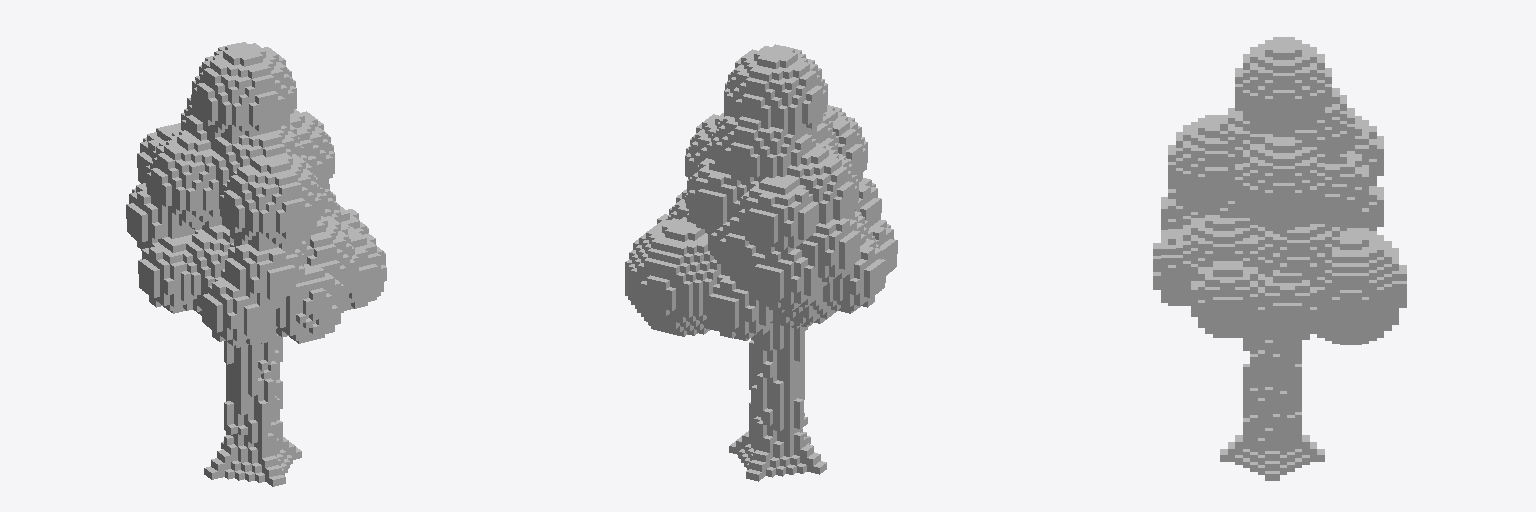
Rendered from tree1.obj.
The picture shows the model from 3 angles: view 1: azimuth 30°, elevation 25°; view 2: azimuth 150°, elevation 25°; view 3: azimuth 270°, elevation 25°; orthographic projection.
Parts seen in each view (by area): view 1: object 1; view 2: object 1; view 3: object 1.
Boxes of the visible parts, x1=… form: object 1: x1=126, y1=42, x2=386, y2=486; object 1: x1=625, y1=44, x2=897, y2=481; object 1: x1=1153, y1=37, x2=1406, y2=480.
Bounding box in the file's own units: 3.4 × 6.1 × 3.4.